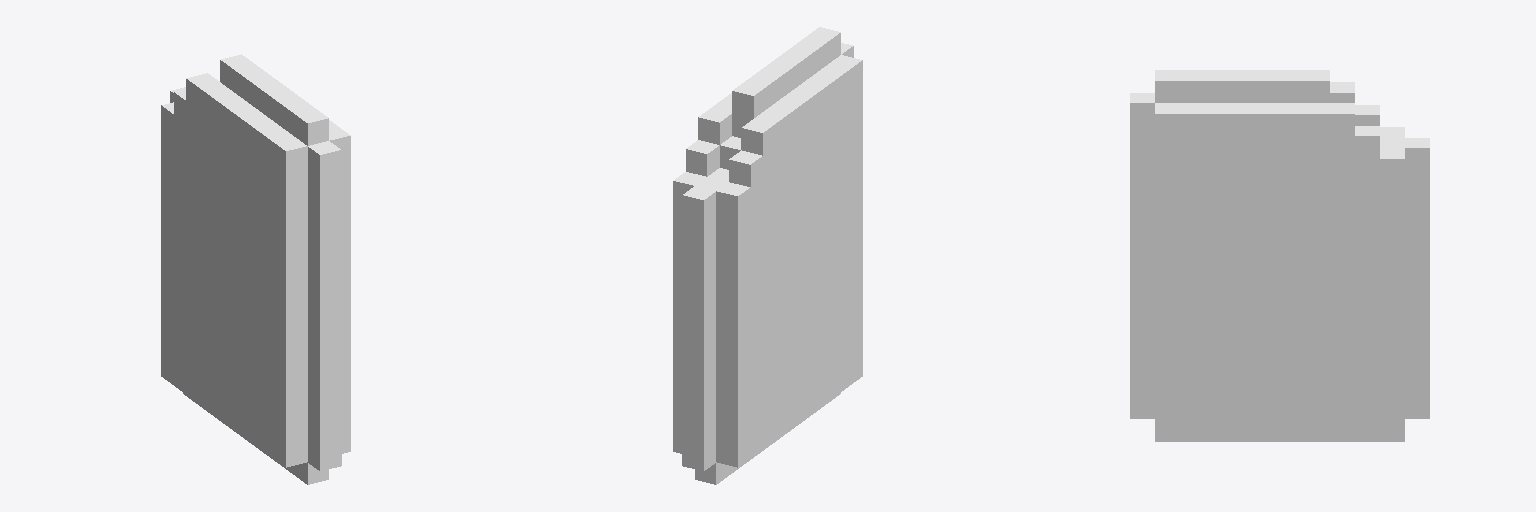
File: farm-5-seed_beet.obj
The picture shows the model from 3 angles: view 1: azimuth 30°, elevation 25°; view 2: azimuth 150°, elevation 25°; view 3: azimuth 270°, elevation 25°; orthographic projection.
Parts seen in each view (by area): view 1: seed_beet; view 2: seed_beet; view 3: seed_beet.
Boxes of the visible parts, box(x1,y1,x2,y2) form: seed_beet: box(161, 54, 350, 484); seed_beet: box(673, 27, 862, 484); seed_beet: box(1130, 70, 1429, 441).
Size of the model in its own units: 0.3 by 1.6 by 1.2.